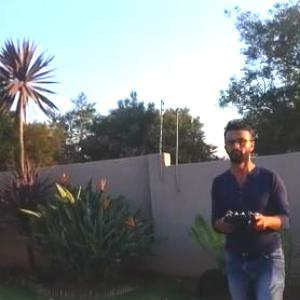follow: (205, 116, 295, 299)
